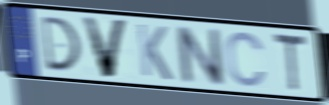C: (224, 29, 269, 89)
D: (38, 14, 83, 73)
K: (134, 21, 174, 83)
N: (173, 23, 228, 88)
T: (271, 30, 309, 95)
V: (79, 14, 131, 80)
